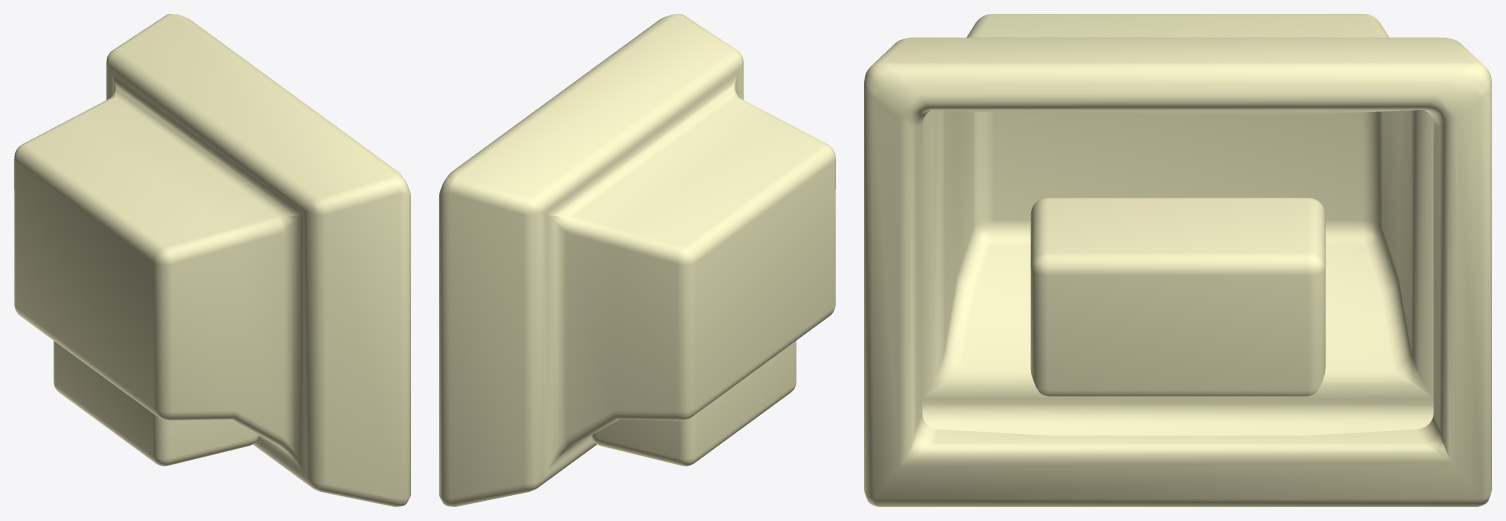
File: ComputerNoscreenfbx(1).fbx
3 views of the same model, side by side, from view 1: azimuth 30°, elevation 25°; view 2: azimuth 150°, elevation 25°; view 3: azimuth 270°, elevation 25° (orthographic). The views are drawn at different scales.
Parts seen in each view (by area): view 1: Cube; view 2: Cube; view 3: Cube.
Part boxes in pixels (bbox=[...]): Cube: bbox=[14, 14, 410, 506]; Cube: bbox=[439, 14, 835, 506]; Cube: bbox=[864, 14, 1491, 506].
Size of the model in its own units: 168 by 242 by 312.
